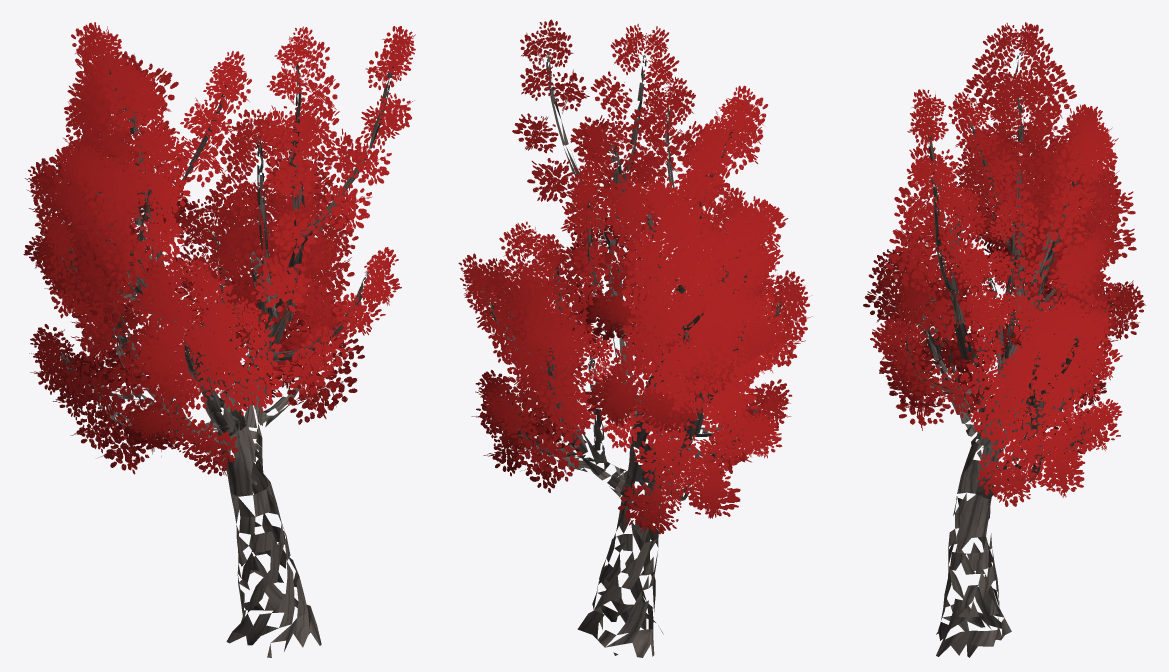
File: TwistedTree_2.gltf
The picture shows the model from 3 angles, left to right: view 1: azimuth 30°, elevation 25°; view 2: azimuth 150°, elevation 25°; view 3: azimuth 270°, elevation 25°; orthographic projection. The views are drawn at different scales.
Parts seen in each view (by area): view 1: TwistedTree_2; view 2: TwistedTree_2; view 3: TwistedTree_2.
Boxes of the visible parts, x1,y1,x2,y2 form: TwistedTree_2: (23,22,415,657); TwistedTree_2: (458,19,812,657); TwistedTree_2: (863,22,1145,657).
Bounding box in the file's own units: 10.56 × 18.95 × 9.2.
Materials: 2 (2 with a texture image).
